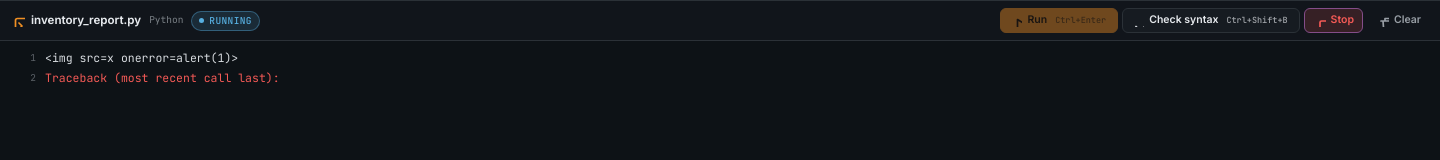
Test: python output panel › renders streamed output as text and keeps Clear from stopping the run
The image size is (1440, 160).
Expected: the text "<img src=x onerror=alert(1)>" is shown, top-left (45, 50), bottom-right (238, 65)
Expected: the text "running" is shown, top-left (191, 10), bottom-right (260, 30)
Click the button with test id "python-clear": click(1398, 20) top-left (1367, 8), bottom-right (1430, 33)
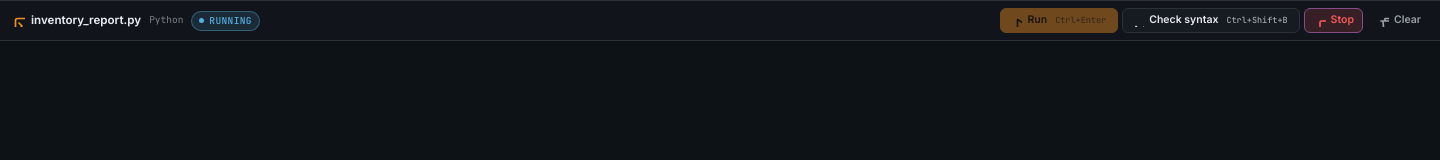
Expected: the button with test id "python-stop" is shown, top-left (1304, 8), bottom-right (1363, 33)
Expected: the text "<img src=x onerror=alert(1)>" is gone
